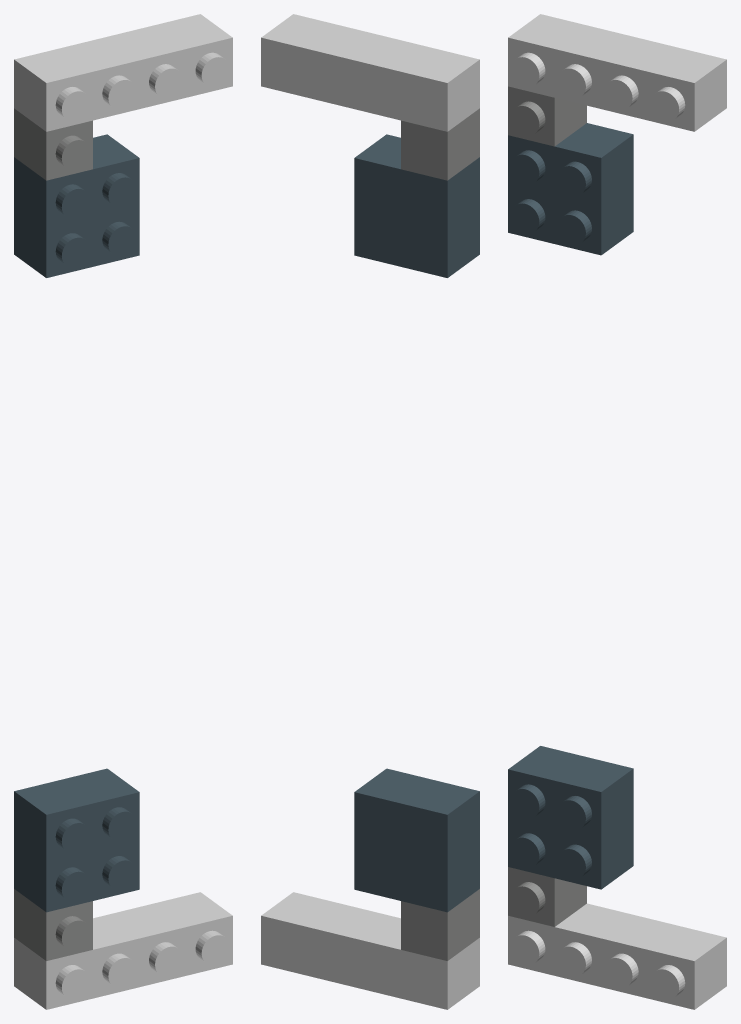
File: current.glb
The picture shows the model from 3 angles, left to right: view 1: azimuth 30°, elevation 25°; view 2: azimuth 150°, elevation 25°; view 3: azimuth 330°, elevation 25°; orthographic projection.
Visible parts, largest first — view 1: world; view 2: world; view 3: world.
Boxes of the visible parts, <box> form: world: <box>14,14,232,1009</box>; world: <box>261,14,479,1009</box>; world: <box>508,14,726,1009</box>.
Size of the model in its own units: 32 by 152 by 11.4.
